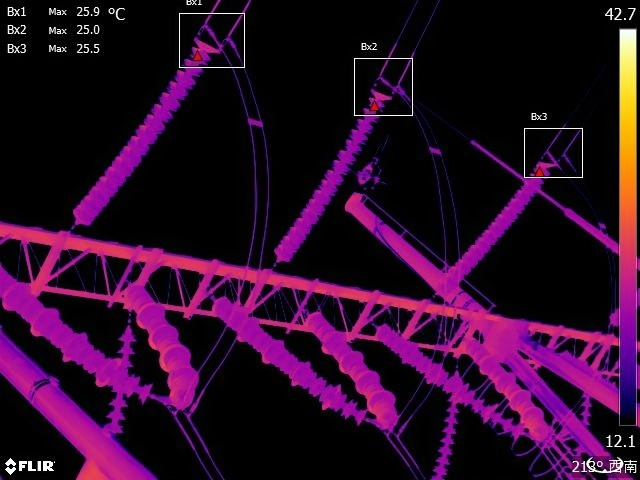insulator: (70, 34, 210, 226), (270, 83, 393, 263), (216, 297, 376, 426), (1, 258, 151, 395), (370, 317, 527, 437), (436, 161, 546, 285), (308, 311, 407, 435), (459, 334, 549, 444), (131, 281, 194, 412), (101, 321, 138, 438), (429, 371, 462, 480)
